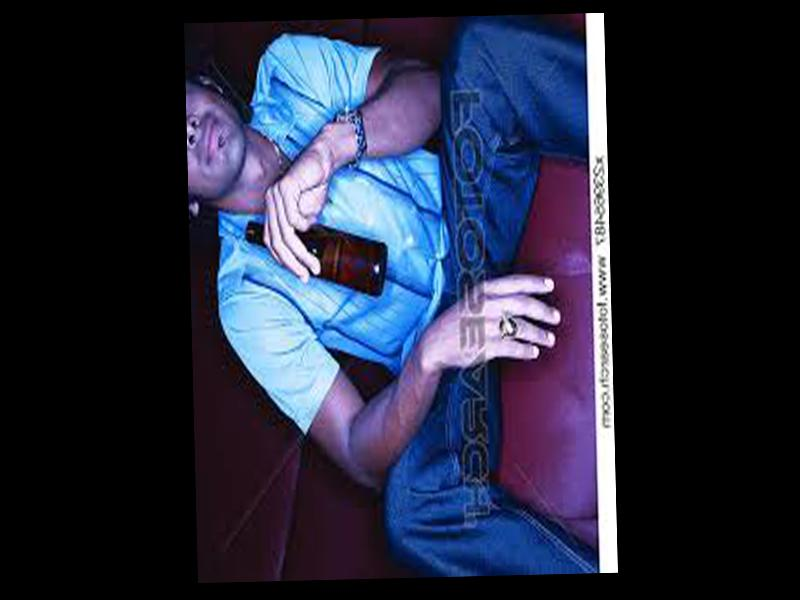Beer: (244, 217, 387, 302)
